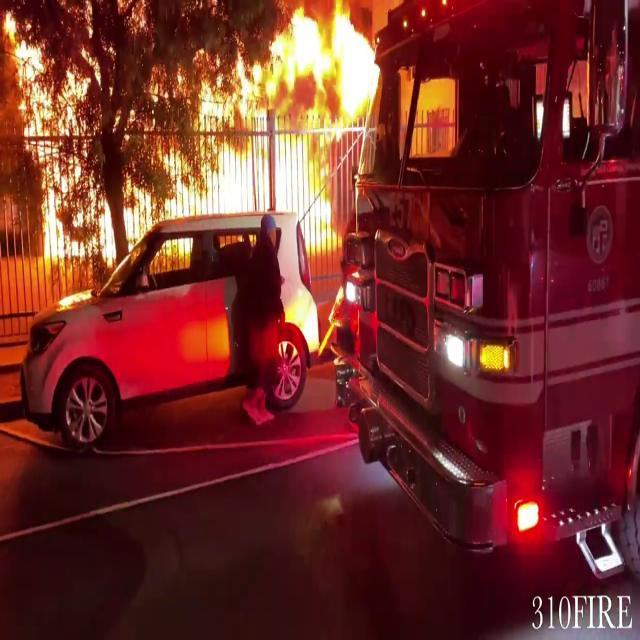Fire: (1, 0, 386, 261)
